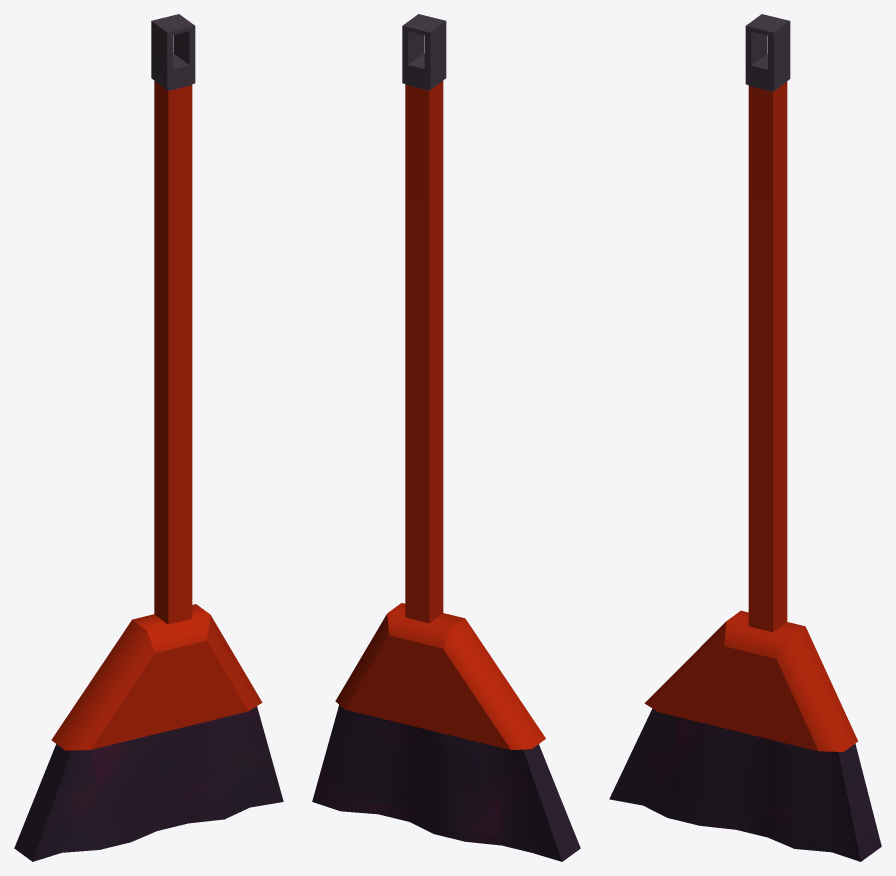
File: FBX_Model_MABacklog_Broom.fbx
3 renders of one model, left to right at view 1: azimuth 30°, elevation 25°; view 2: azimuth 150°, elevation 25°; view 3: azimuth 330°, elevation 25°, orthographic.
Parts seen in each view (by area): view 1: broom_Bristles, broom_Handle, broom_Head; view 2: broom_Bristles, broom_Handle, broom_Head; view 3: broom_Handle, broom_Bristles, broom_Head.
Part boxes in pixels (x1,y1,x2,y2): broom_Bristles: (14,706,283,861); broom_Handle: (151,14,195,624); broom_Head: (51,604,262,750); broom_Bristles: (312,699,580,861); broom_Handle: (402,14,446,623); broom_Head: (335,603,545,749); broom_Handle: (745,14,790,632); broom_Bristles: (609,708,881,861); broom_Head: (644,610,857,751).
Bounding box in the file's own units: 2.59 × 7.9 × 0.4758.
1 material, 1 textured.
